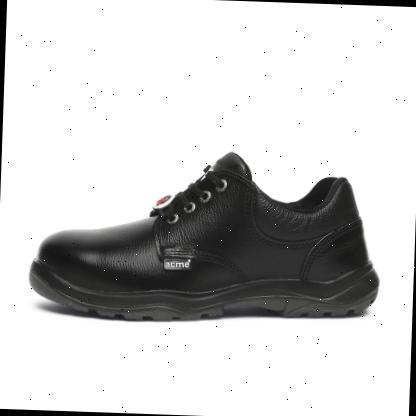bota: (22, 139, 386, 333)
